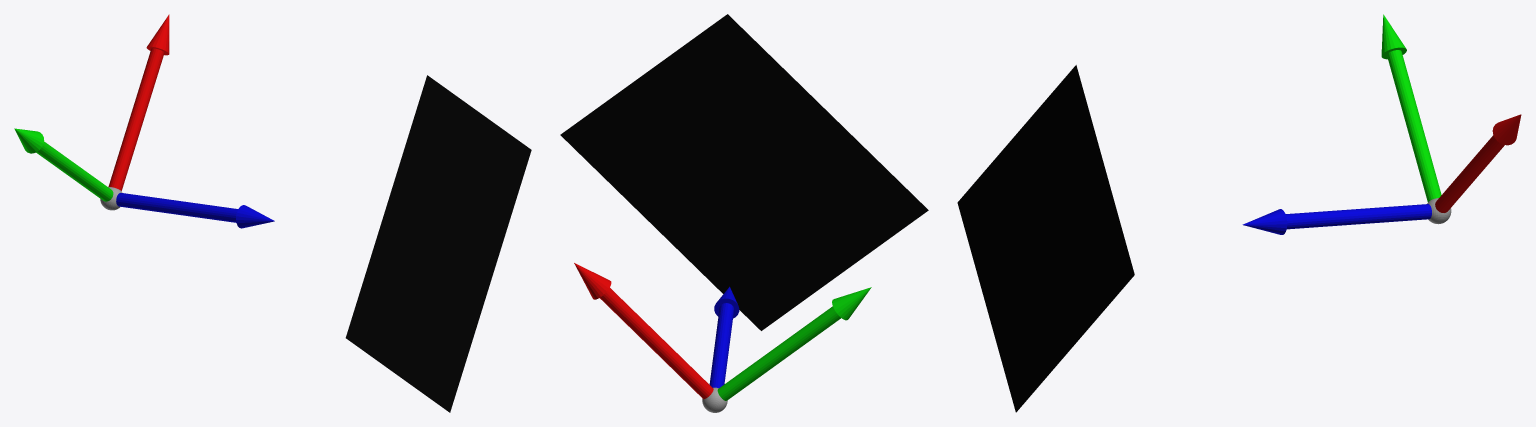
3 renders of one model, left to right at view 1: azimuth 30°, elevation 25°; view 2: azimuth 150°, elevation 25°; view 3: azimuth 270°, elevation 25°, orthographic. The views are drawn at different scales.
Size of the model in its own units: 0.2942 by 0.2199 by 0.3206.
